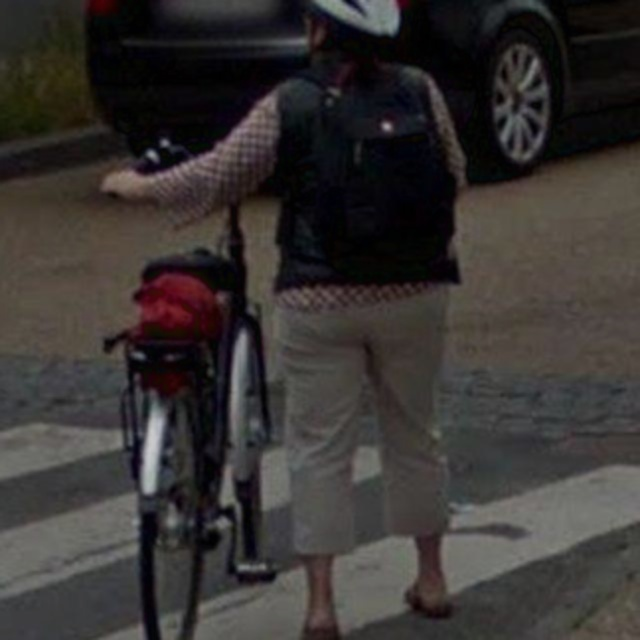bicycle: (66, 86, 343, 634)
